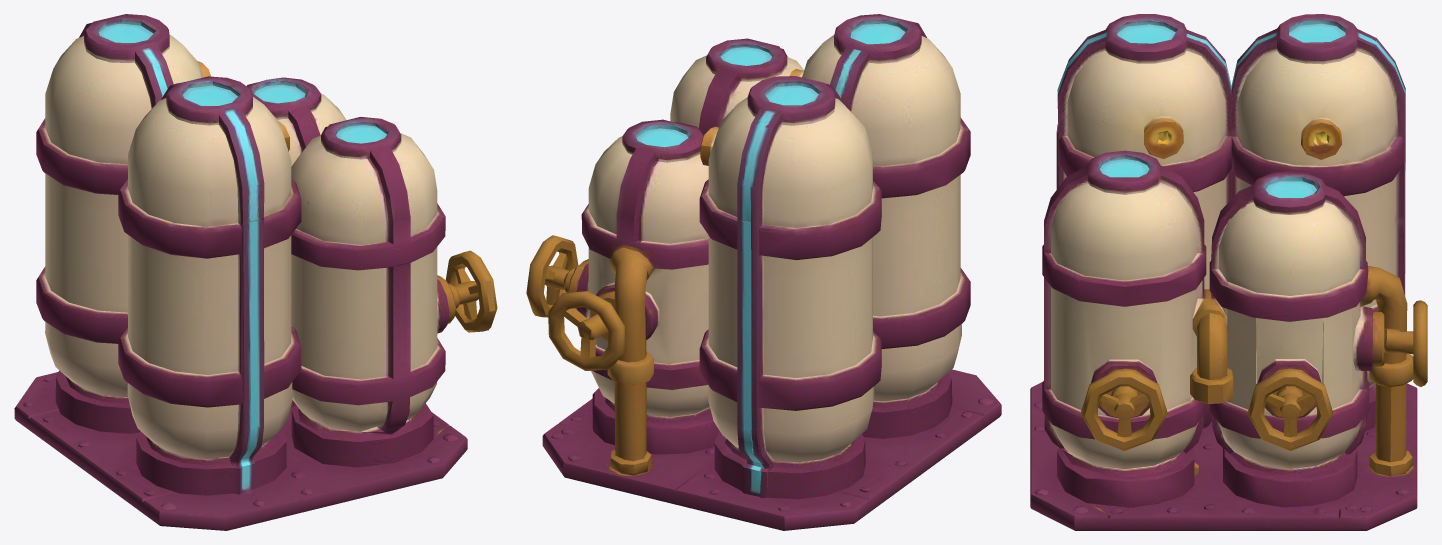
The model's file is fuel_tanks.glb.
3 views of the same model, side by side, from view 1: azimuth 30°, elevation 25°; view 2: azimuth 150°, elevation 25°; view 3: azimuth 270°, elevation 25° (orthographic).
Visible parts, largest first — view 1: fuel_tanks; view 2: fuel_tanks; view 3: fuel_tanks.
Boxes of the visible parts, left/top/right/bottom form: fuel_tanks: left=14, top=14, right=497, bottom=530; fuel_tanks: left=526, top=14, right=1001, bottom=530; fuel_tanks: left=1030, top=14, right=1427, bottom=530.
Bounding box in the file's own units: 13.01 × 14 × 12.88.
1 material, 1 textured.
